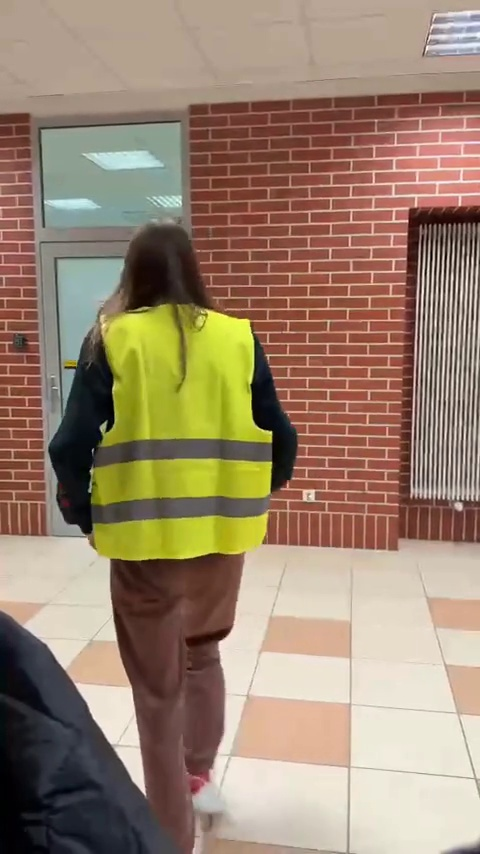vest: (49, 220, 316, 854)
